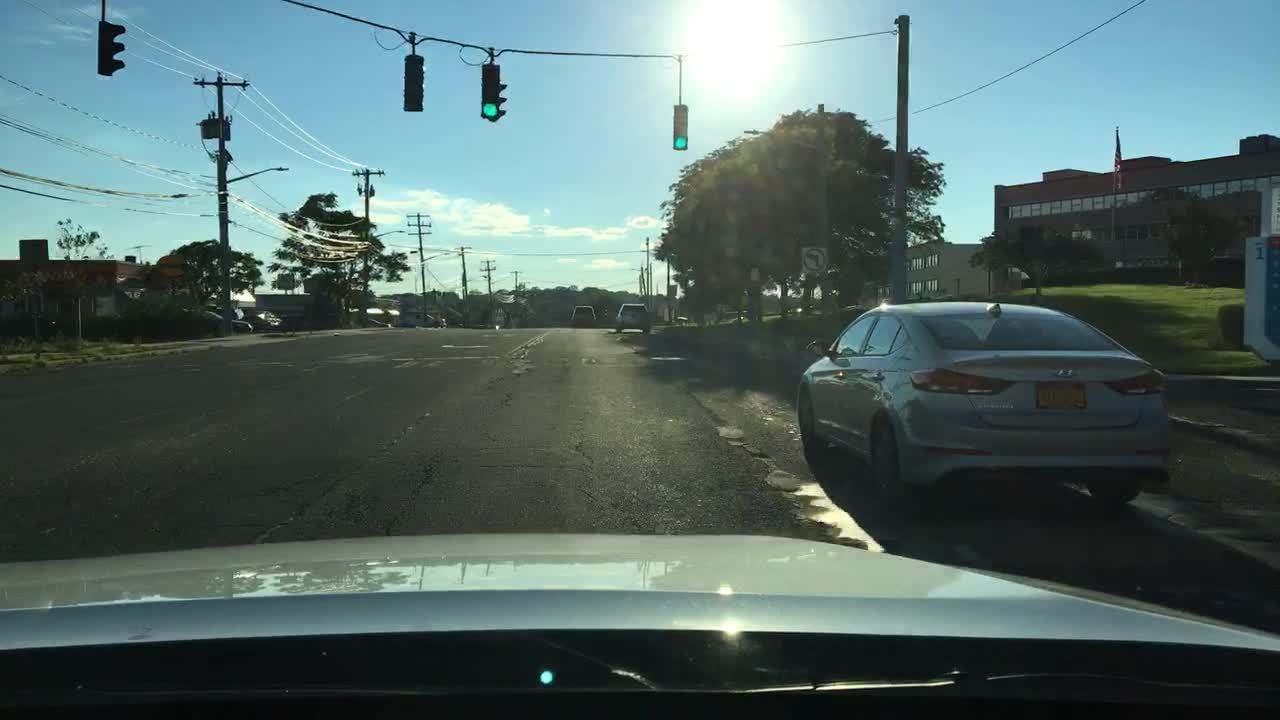Hyundai: (1047, 359, 1082, 384)
